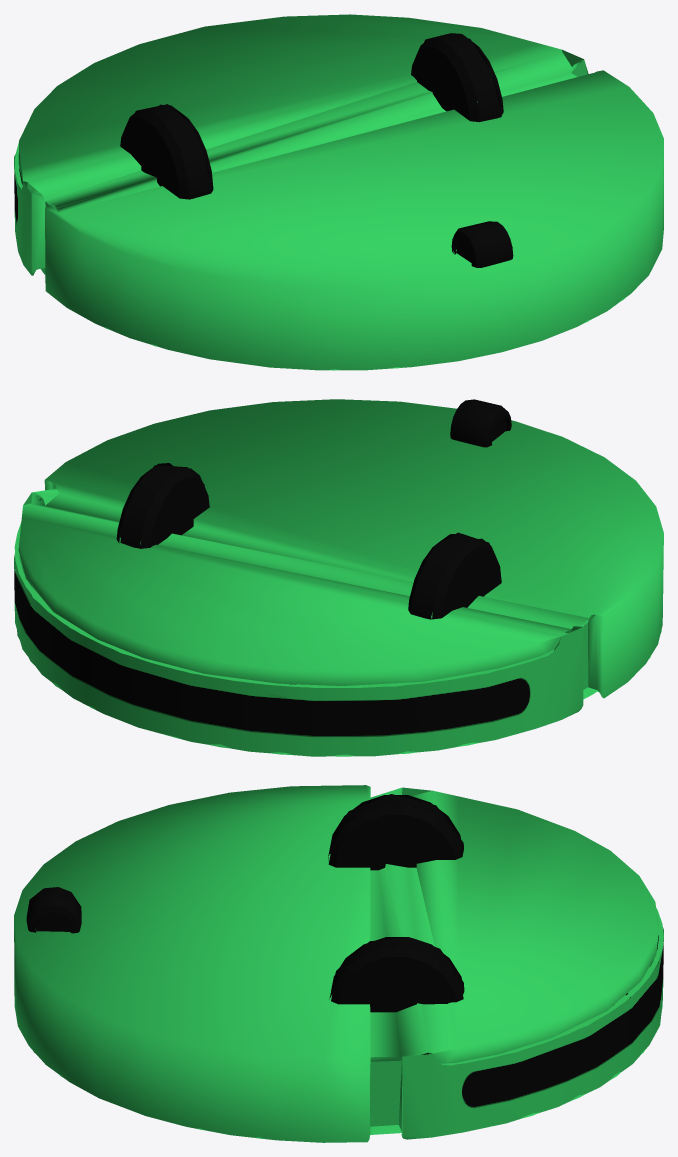
The model's file is robot_green.obj.
3 views of the same model, one above another, from view 1: azimuth 30°, elevation 25°; view 2: azimuth 150°, elevation 25°; view 3: azimuth 270°, elevation 25° (orthographic).
Parts seen in each view (by area): view 1: finished_robot_vacuum; view 2: finished_robot_vacuum; view 3: finished_robot_vacuum.
Part boxes in pixels (box(x1,y1,x2,y2)): finished_robot_vacuum: box(14, 14, 663, 370); finished_robot_vacuum: box(14, 399, 663, 756); finished_robot_vacuum: box(14, 785, 663, 1142).
Bounding box in the file's own units: 0.4597 × 0.1066 × 0.46.
1 material, 1 textured.
